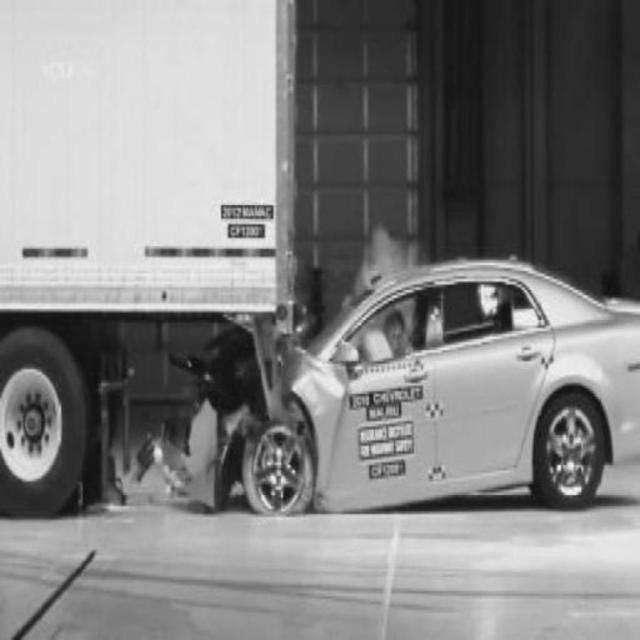accident: (2, 174, 633, 522)
